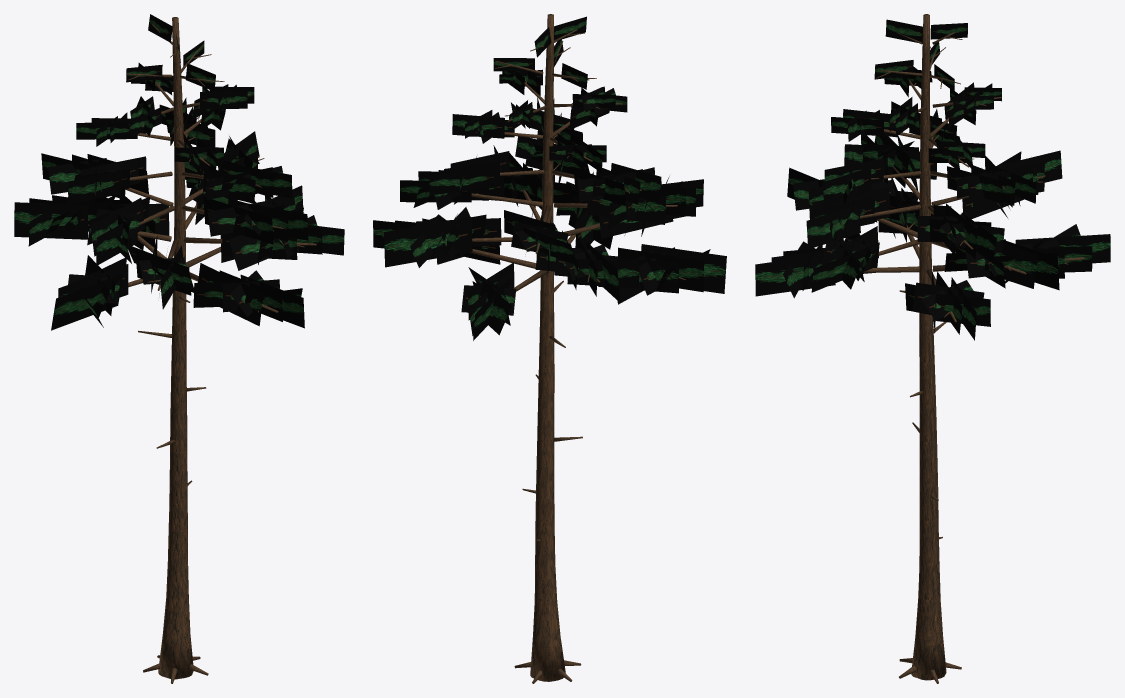
The model's file is terrain_pine.fbx.
3 renders of one model, left to right at view 1: azimuth 30°, elevation 25°; view 2: azimuth 150°, elevation 25°; view 3: azimuth 270°, elevation 25°, orthographic.
Parts seen in each view (by area): view 1: TerrainPine_SourceMesh; view 2: TerrainPine_SourceMesh; view 3: TerrainPine_SourceMesh.
Boxes of the visible parts, box(x1,y1,x2,y2) form: TerrainPine_SourceMesh: box(14, 14, 344, 683); TerrainPine_SourceMesh: box(373, 14, 726, 683); TerrainPine_SourceMesh: box(755, 14, 1110, 683).
Bounding box in the file's own units: 731 × 1520 × 746.
